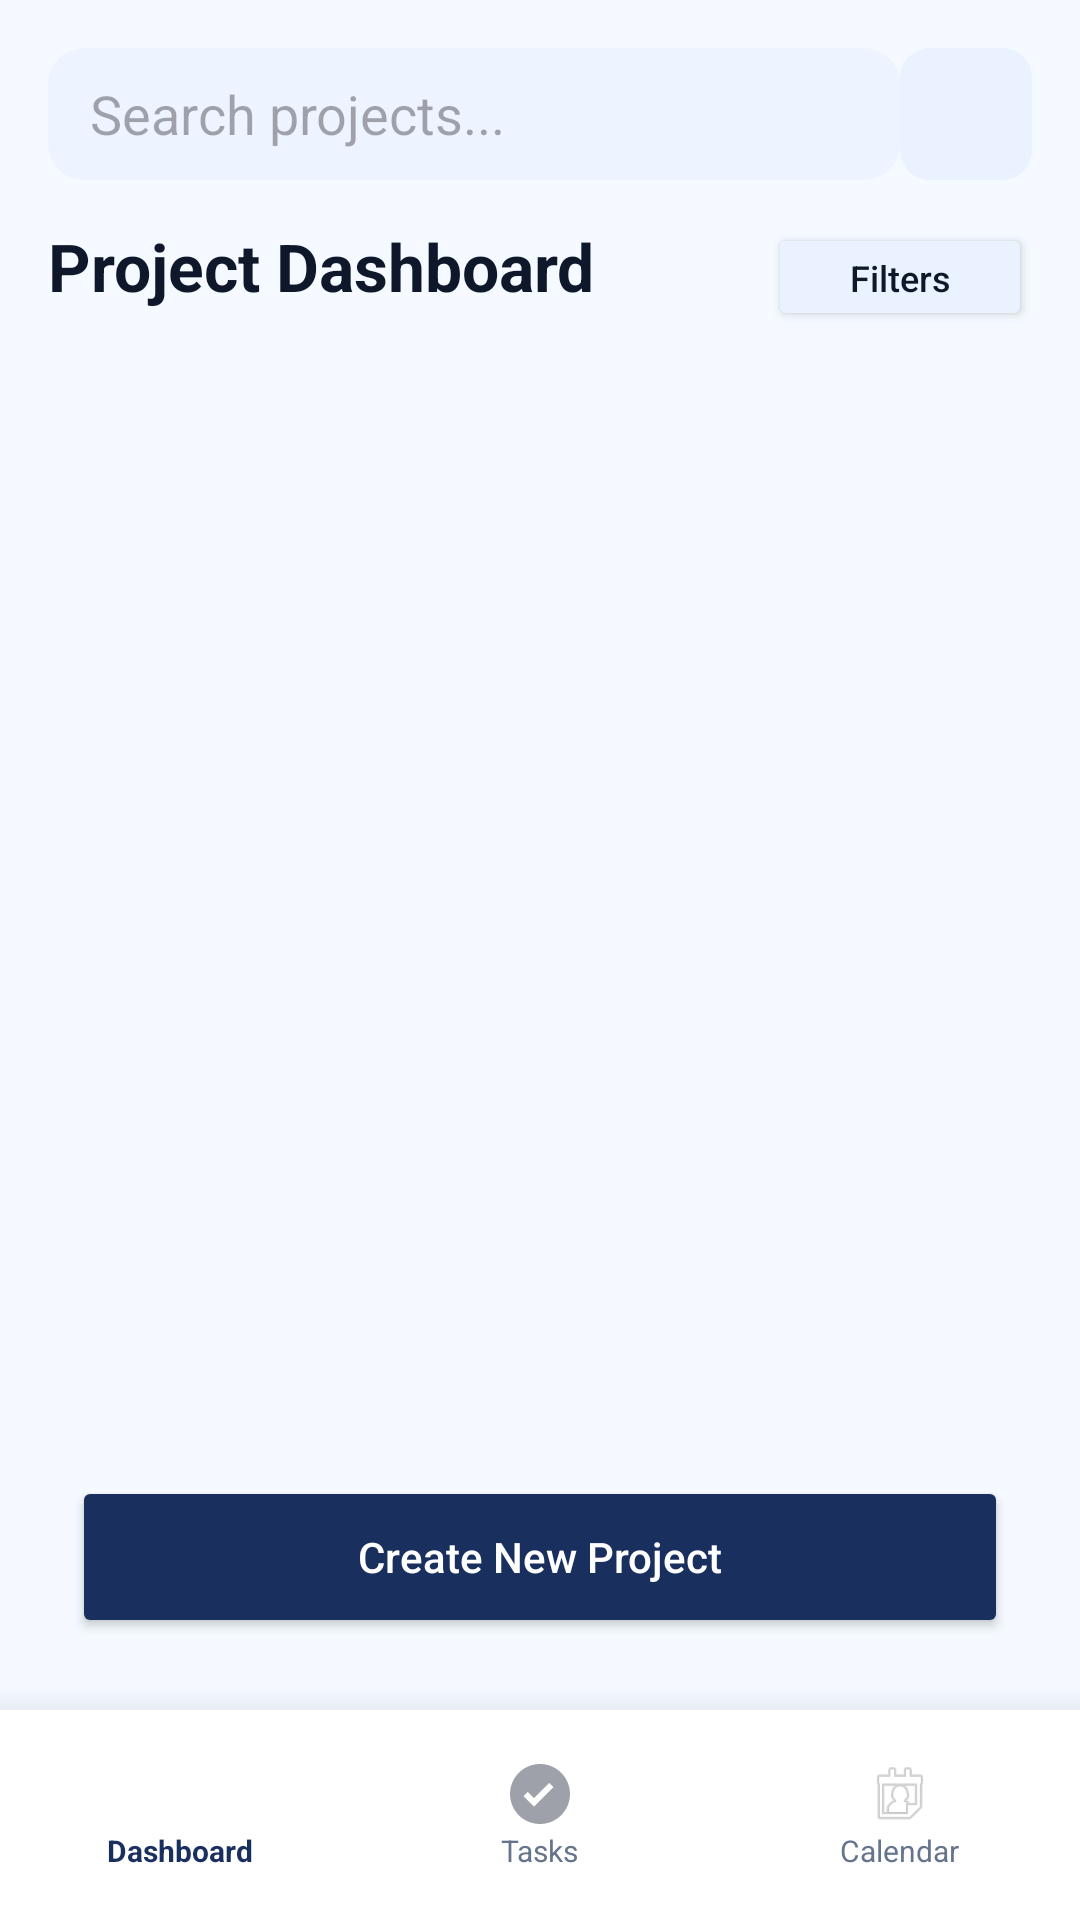

Icons on this 1080x1920 Android screen, each with the point to tap as [x,y]:
check circle: [540,1794]
